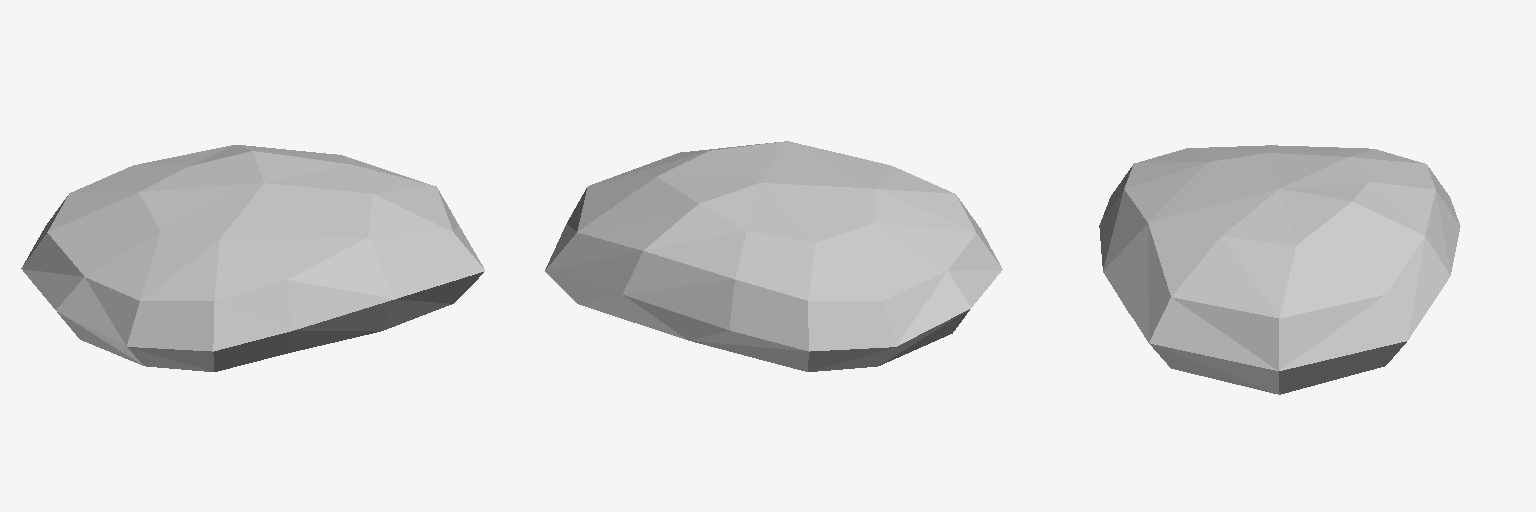
File: sholazar_rocksmallb.obj
3 views of the same model, side by side, from view 1: azimuth 30°, elevation 25°; view 2: azimuth 150°, elevation 25°; view 3: azimuth 270°, elevation 25° (orthographic).
Visible parts, largest first — view 1: sholazar_rocksmallb; view 2: sholazar_rocksmallb; view 3: sholazar_rocksmallb.
Boxes of the visible parts, box(x1,y1,x2,y2) form: sholazar_rocksmallb: box(21, 145, 484, 371); sholazar_rocksmallb: box(545, 141, 1002, 371); sholazar_rocksmallb: box(1099, 145, 1460, 394).
Size of the model in its own units: 1.62 by 0.5457 by 1.26.